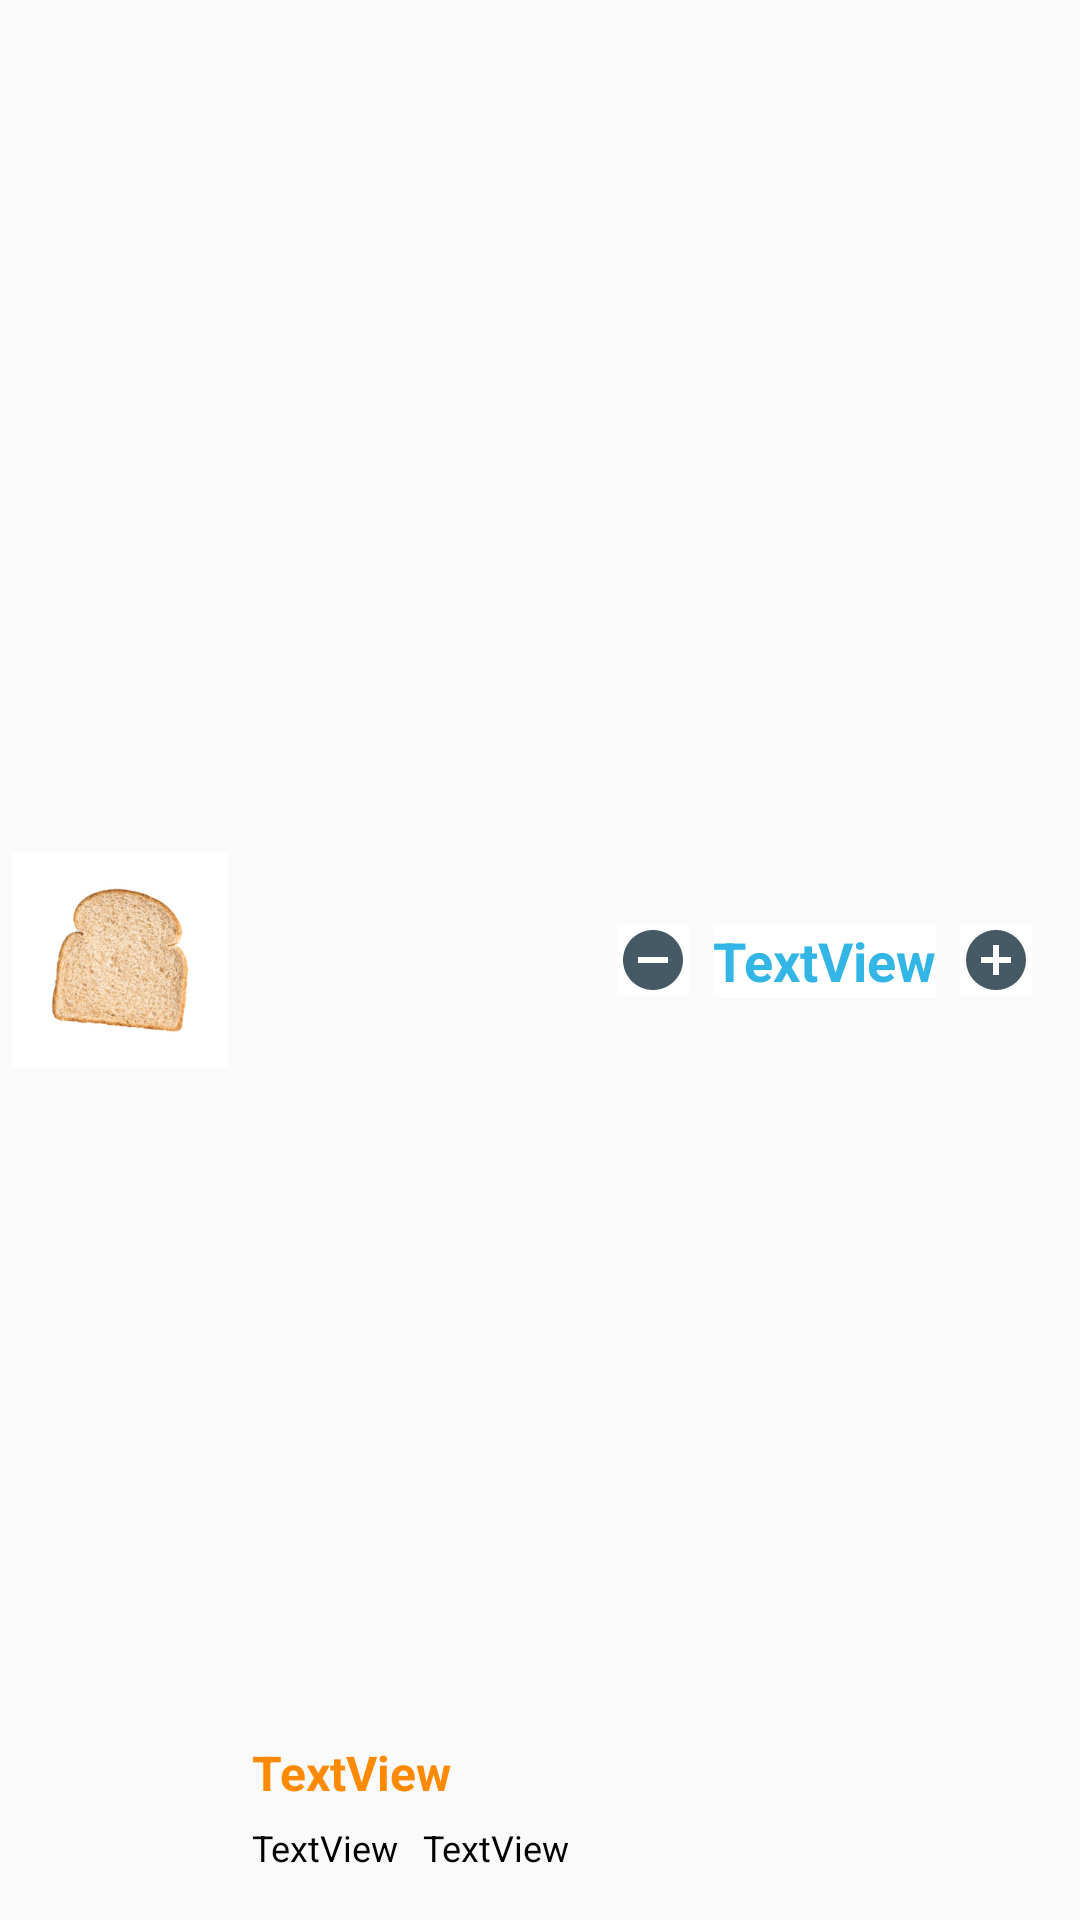

Where to tap for icons on this 1080 x 1920 app screen, as (x,y):
add: (996,960)
bread: (120,960)
remove: (653,960)
